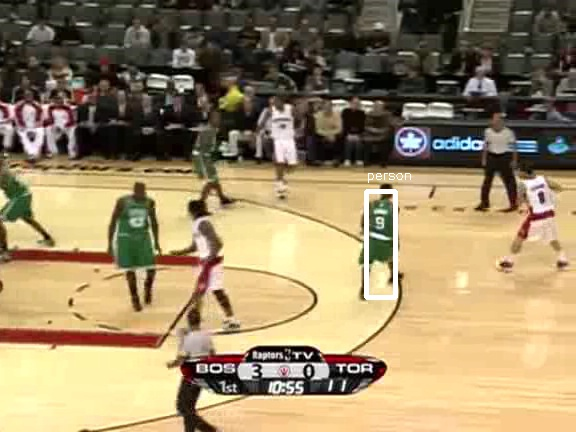person: (366, 193, 400, 274), (365, 193, 399, 274), (367, 193, 401, 274), (366, 192, 400, 273), (366, 194, 400, 275)
target_negative: (338, 236, 570, 346), (139, 320, 428, 366), (517, 157, 572, 330), (70, 405, 324, 427), (345, 163, 376, 315), (491, 184, 516, 305)
